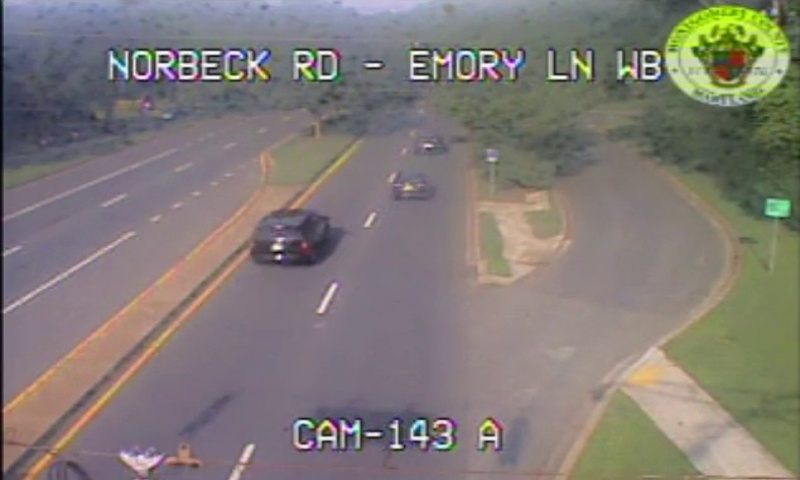car: (252, 210, 328, 265), (391, 172, 425, 199)
